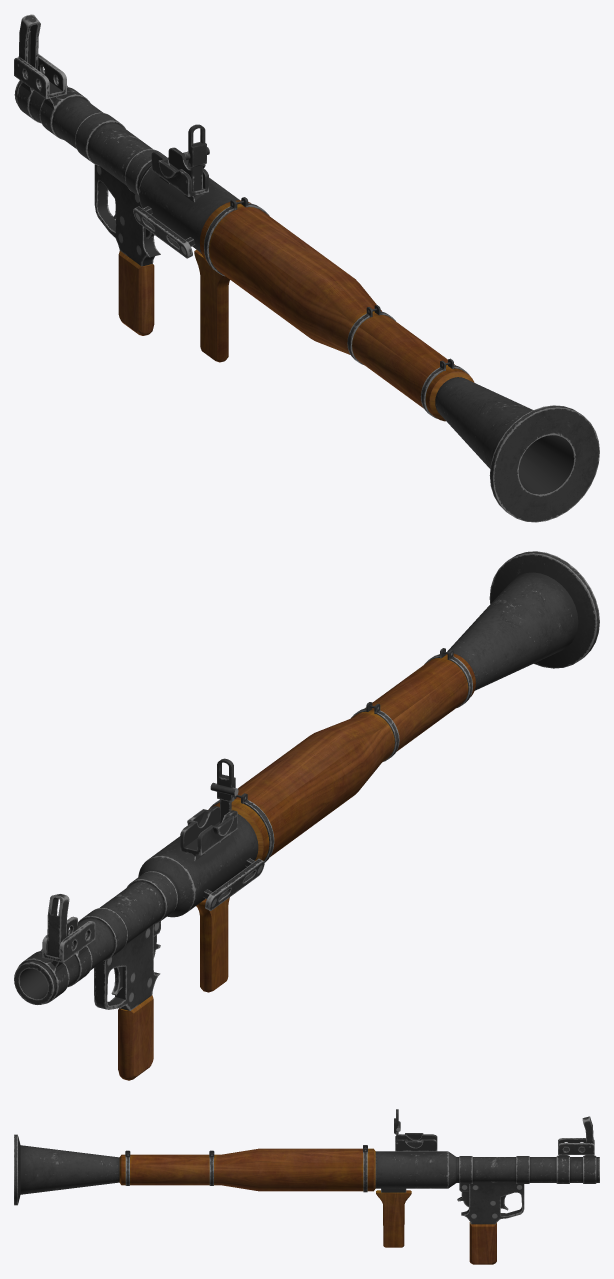
Rendered from rocket_launcher_unloaded.glb.
3 views of the same model, one above another, from view 1: azimuth 30°, elevation 25°; view 2: azimuth 150°, elevation 25°; view 3: azimuth 270°, elevation 25° (orthographic). The views are drawn at different scales.
Visible parts, largest first — view 1: RPG-7; view 2: RPG-7; view 3: RPG-7.
Part boxes in pixels (x1=…): RPG-7: x1=14, y1=14, x2=599, y2=522; RPG-7: x1=14, y1=551, x2=599, y2=1080; RPG-7: x1=14, y1=1109, x2=599, y2=1264.
Bounding box in the file's own units: 0.1182 × 0.277 × 0.9818.
Materials: 1 (1 with a texture image).
